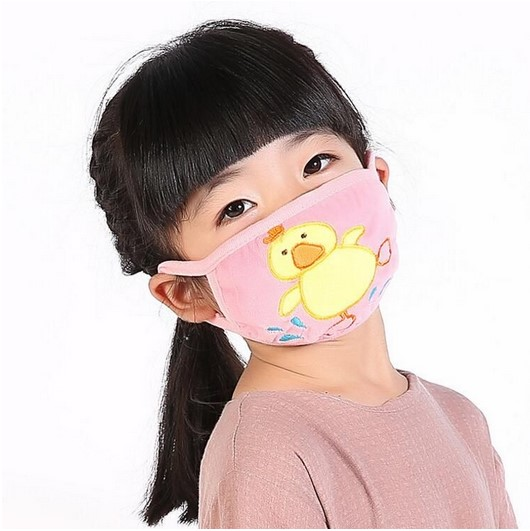face_with_mask: (96, 28, 403, 353)
